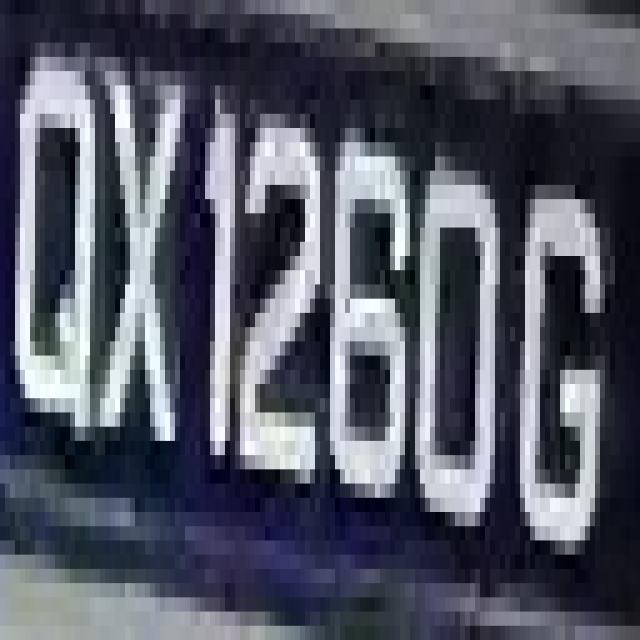0: (415, 100, 500, 526)
1: (195, 43, 240, 469)
2: (230, 86, 325, 540)
6: (325, 114, 410, 512)
G: (520, 128, 605, 555)
Q: (10, 28, 120, 470)
X: (90, 14, 190, 470)
